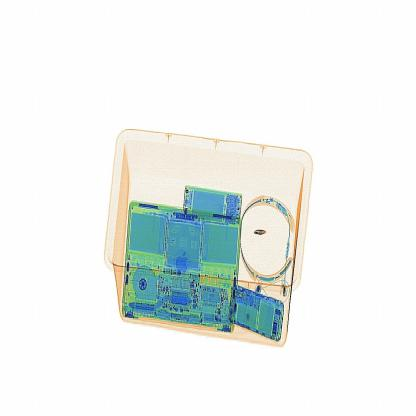wrench: (248, 222, 274, 244)
